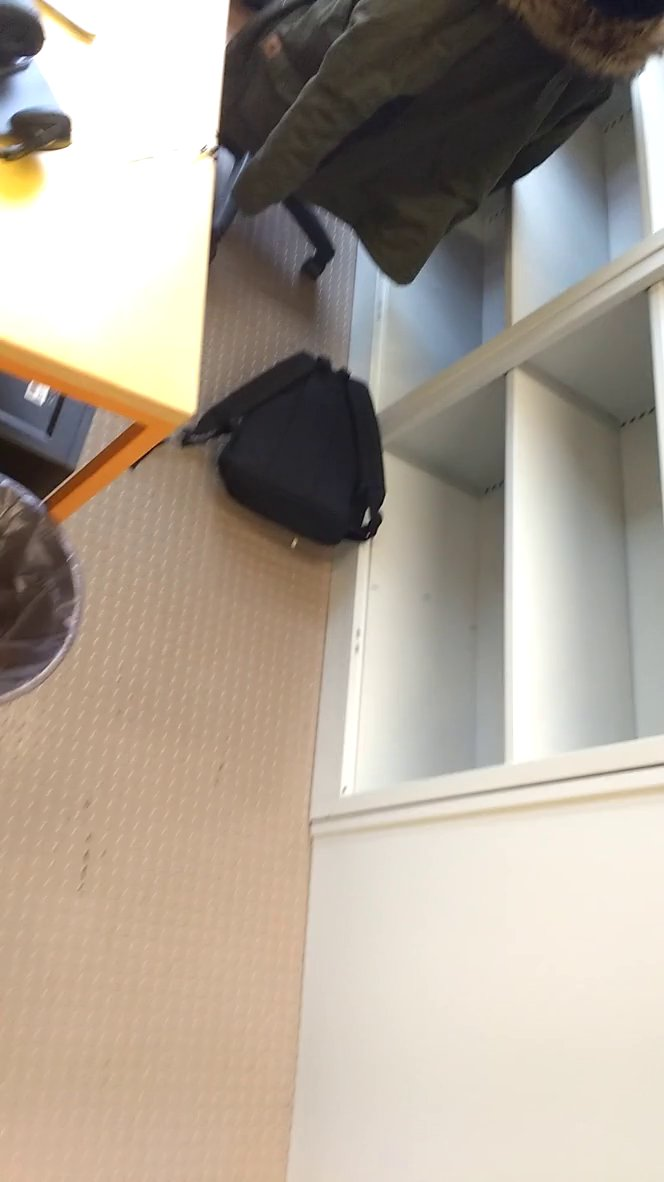bag: (176, 341, 394, 569)
